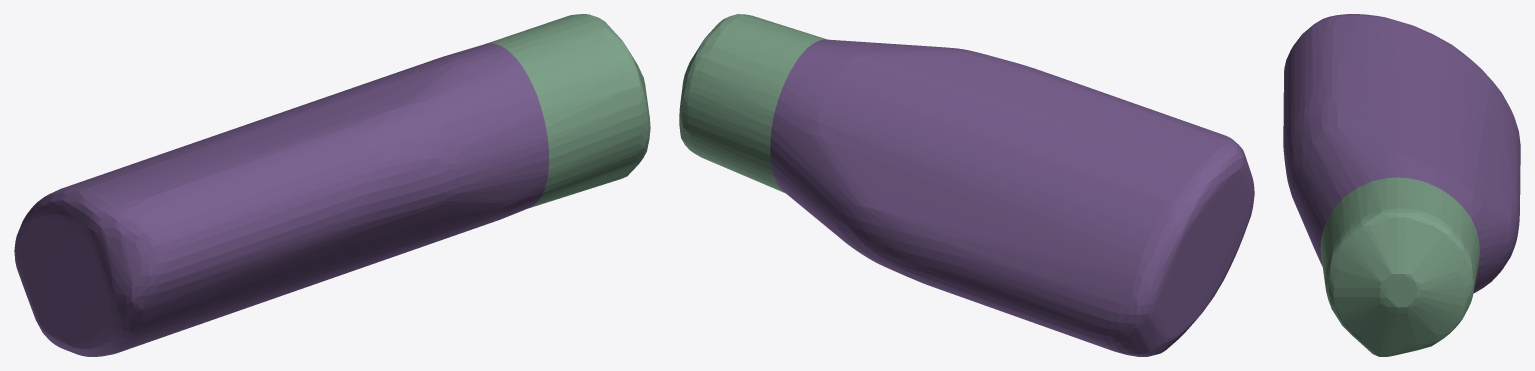
The model's file is bottom_cd.obj.
3 renders of one model, left to right at view 1: azimuth 30°, elevation 25°; view 2: azimuth 150°, elevation 25°; view 3: azimuth 270°, elevation 25°, orthographic. The views are drawn at different scales.
Visible parts, largest first — view 1: geometry_1, geometry_0; view 2: geometry_1, geometry_0; view 3: geometry_1, geometry_0.
Part boxes in pixels (x1,y1,x2,y2): geometry_1: (14,43,549,356); geometry_0: (486,14,650,208); geometry_1: (770,39,1254,356); geometry_0: (679,14,827,193); geometry_1: (1283,14,1520,293); geometry_0: (1320,177,1479,356).
Size of the model in its own units: 212 by 78.41 by 83.53.
